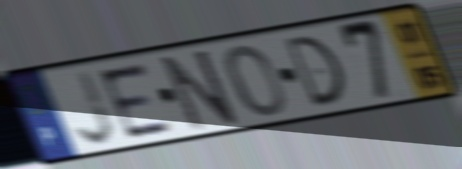7: (333, 17, 396, 106)
D: (281, 32, 351, 111)
E: (94, 59, 177, 142)
J: (73, 67, 119, 148)
N: (157, 46, 242, 134)
O: (223, 42, 288, 120)
